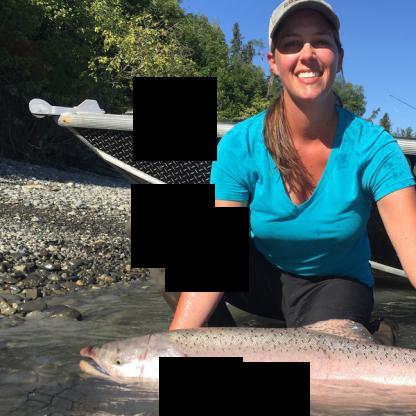fish: (74, 314, 416, 406)
